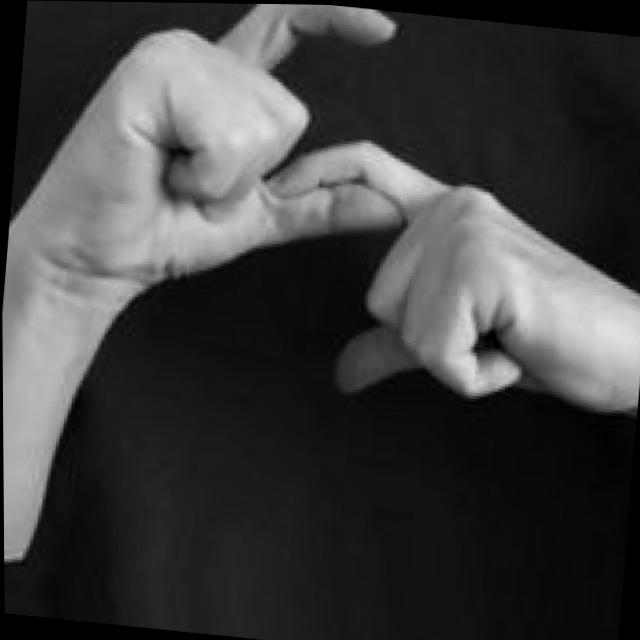S: (0, 0, 640, 447)
